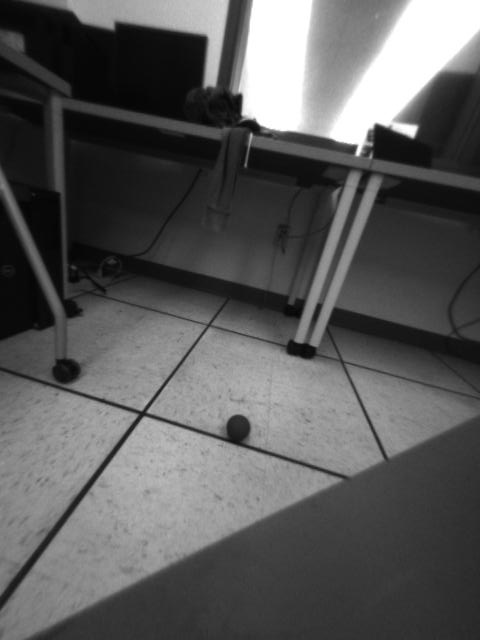dogtoy: (218, 406, 258, 447)
